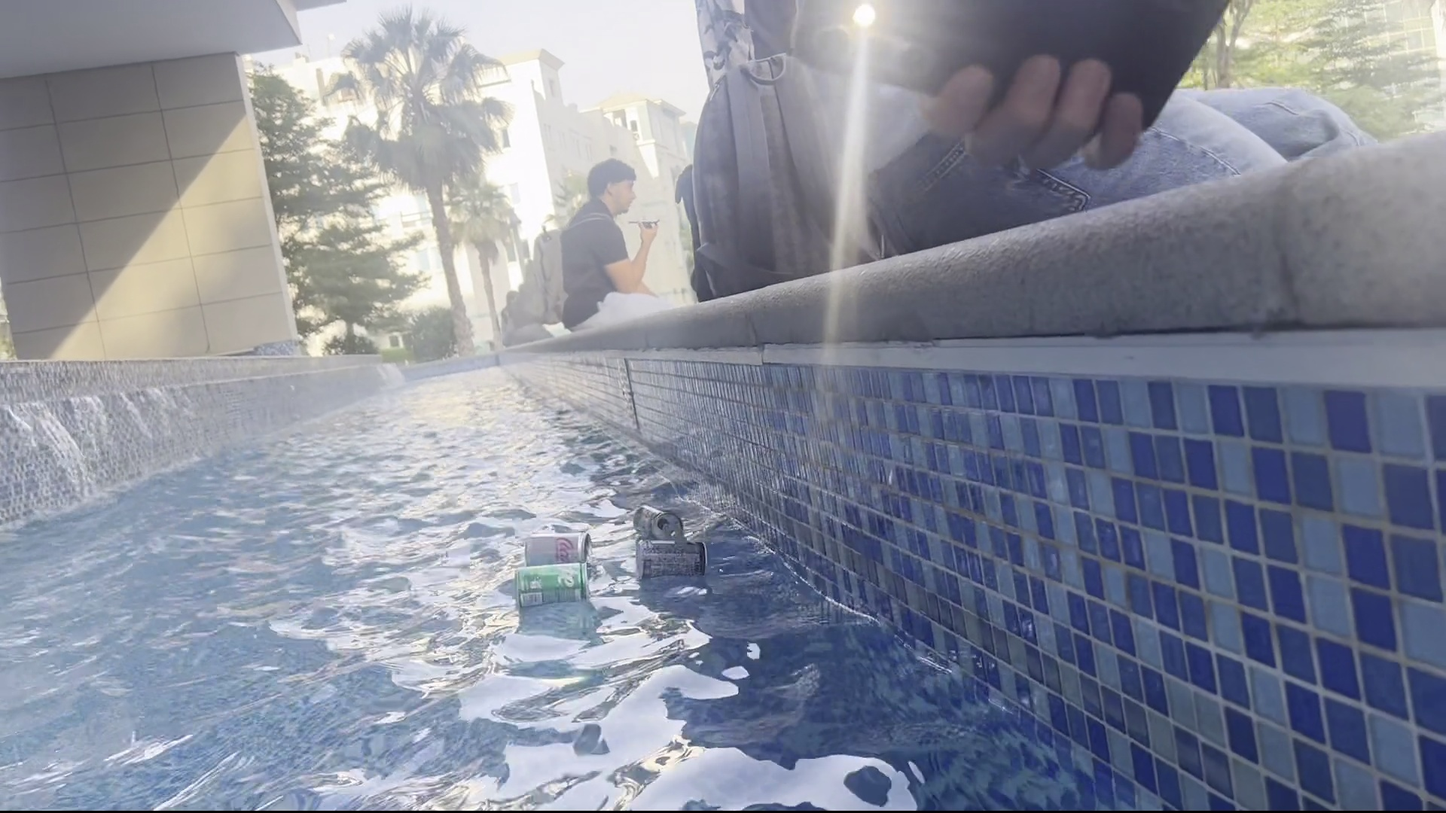debris: (624, 529, 713, 585), (508, 556, 593, 607), (519, 526, 596, 568), (624, 498, 685, 547)
